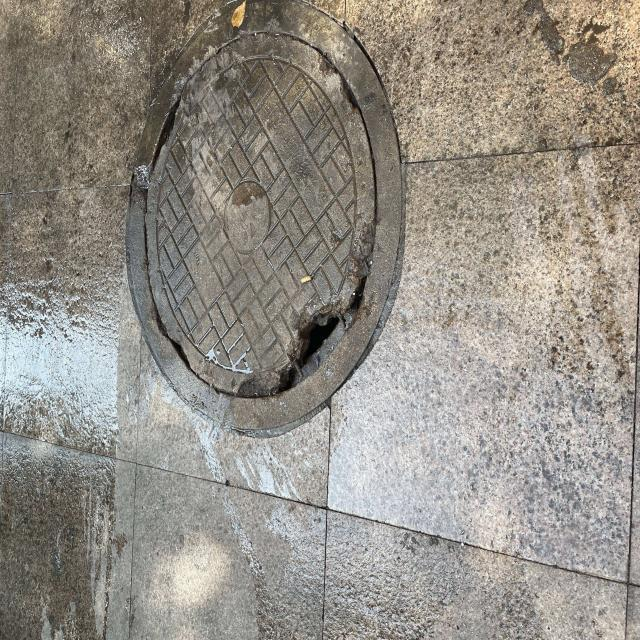Faulty: (126, 0, 404, 437)
